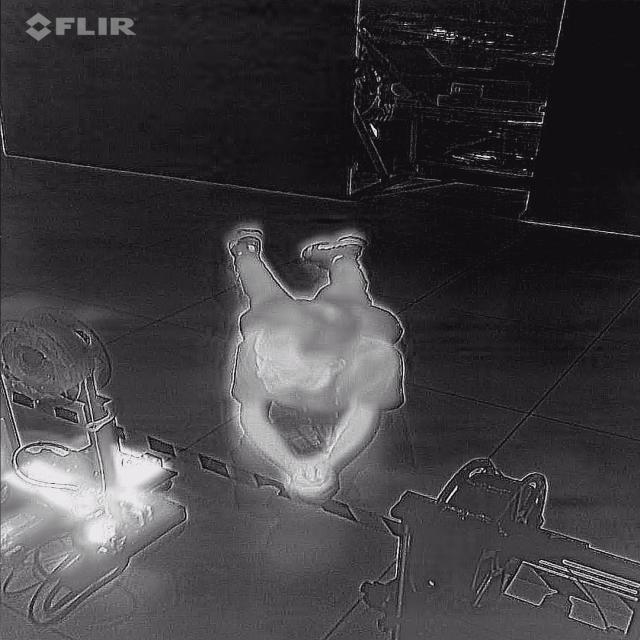Victim: (189, 209, 422, 512)
